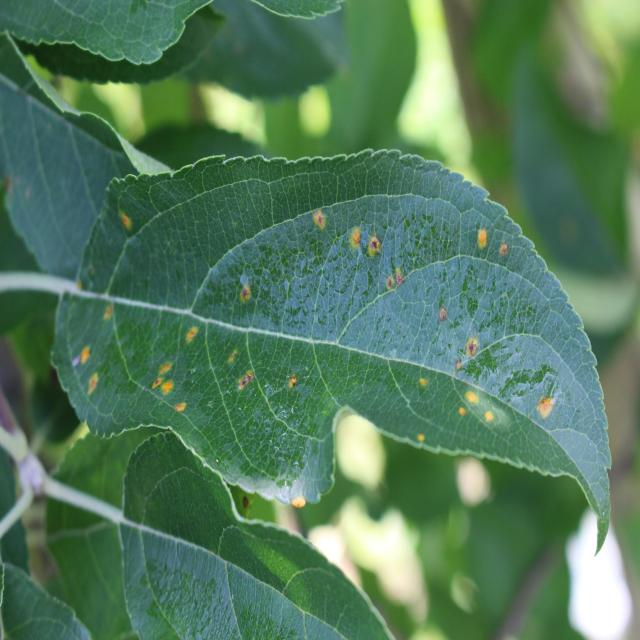Rust: (212, 344, 266, 400), (371, 242, 410, 314), (467, 219, 515, 274), (106, 193, 142, 256), (533, 382, 562, 450), (95, 284, 126, 339), (281, 478, 307, 529), (300, 192, 330, 235), (153, 346, 177, 396), (459, 332, 490, 367), (232, 268, 256, 310), (282, 369, 312, 402), (82, 373, 110, 408), (344, 221, 364, 267), (412, 422, 433, 465), (66, 339, 92, 372), (415, 363, 432, 404), (188, 321, 206, 354), (481, 407, 503, 434), (366, 229, 380, 271), (438, 302, 452, 333), (174, 401, 194, 421), (462, 384, 480, 404)
